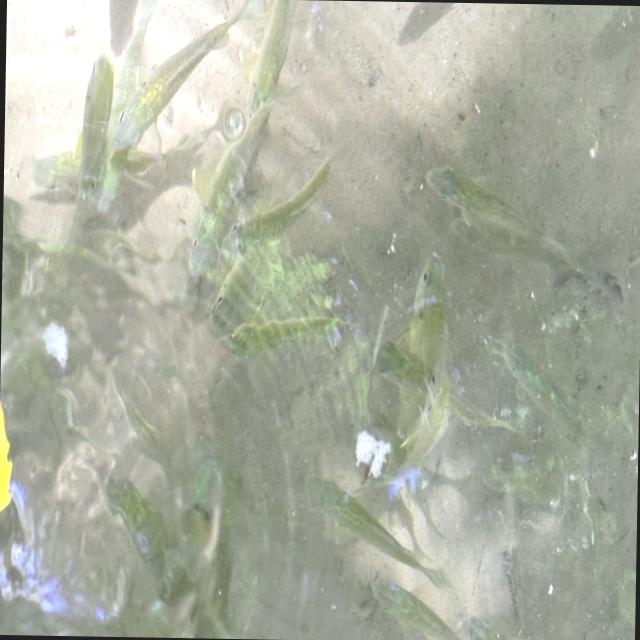Gunes Levregi: (367, 249, 528, 480), (118, 6, 242, 155), (414, 150, 572, 260), (187, 100, 276, 276), (300, 470, 431, 574), (230, 144, 336, 246), (233, 296, 348, 352), (72, 64, 112, 222)
